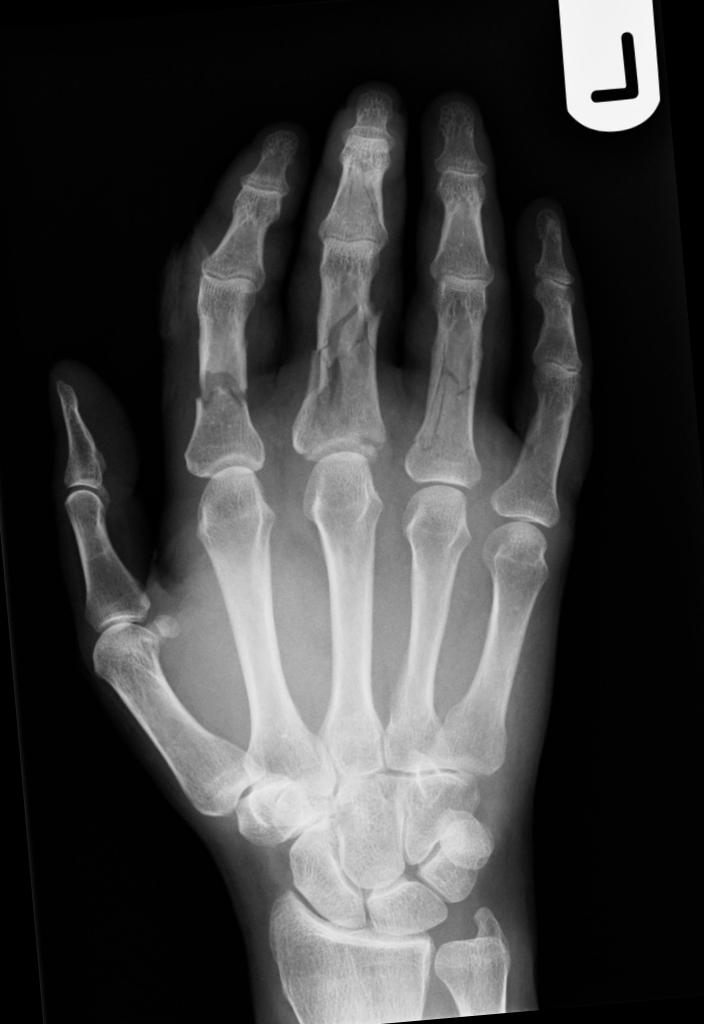fracture: (302, 293, 396, 416), (192, 360, 252, 416), (436, 360, 483, 408)
